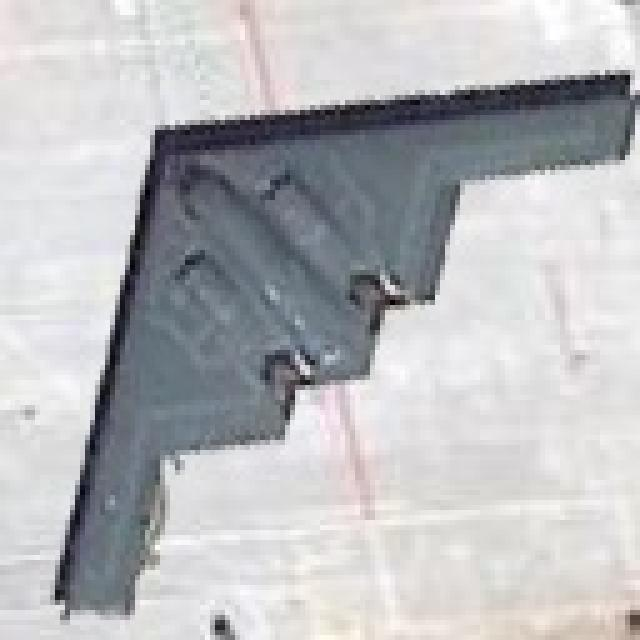B-2_TopDown: (45, 60, 635, 620)
